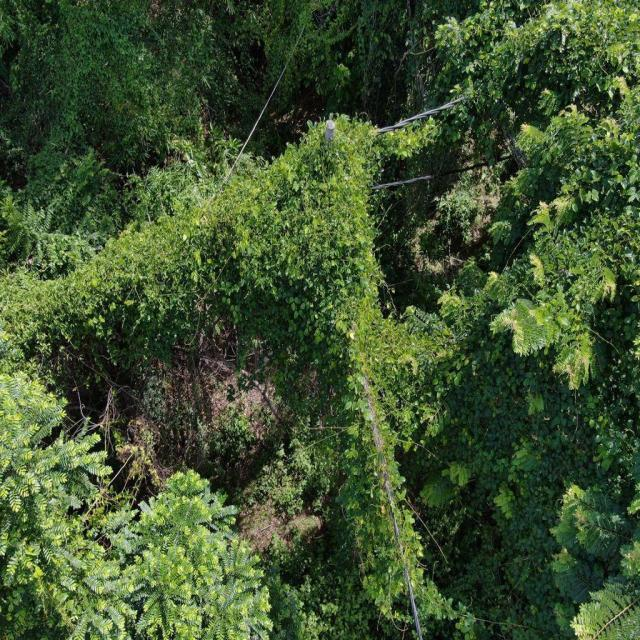critical vegetation: (23, 106, 407, 600)
